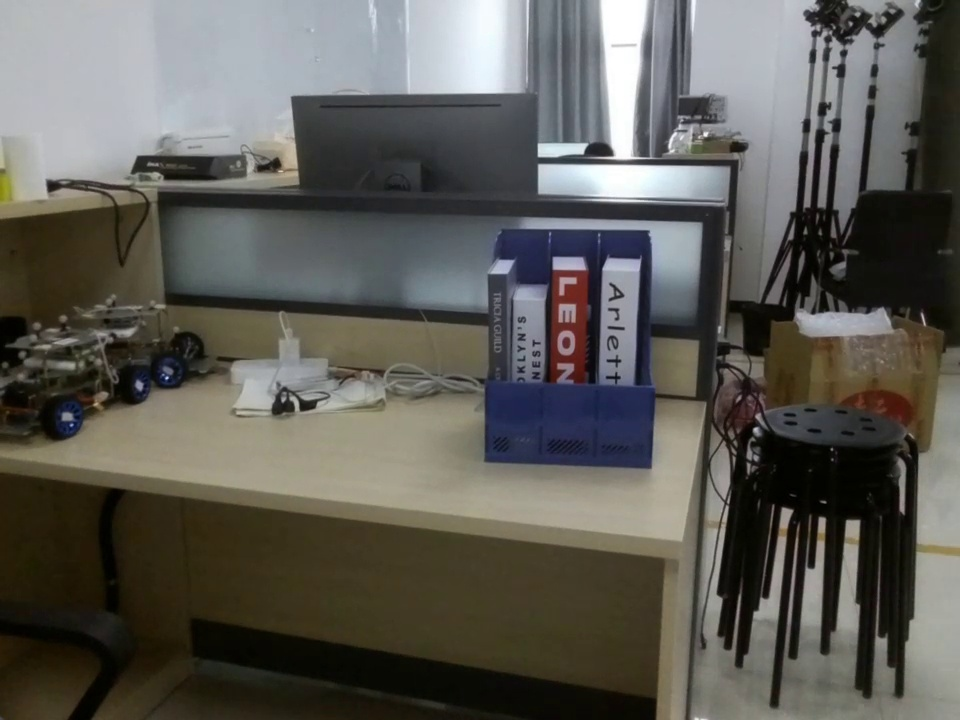files: (481, 222, 662, 476)
